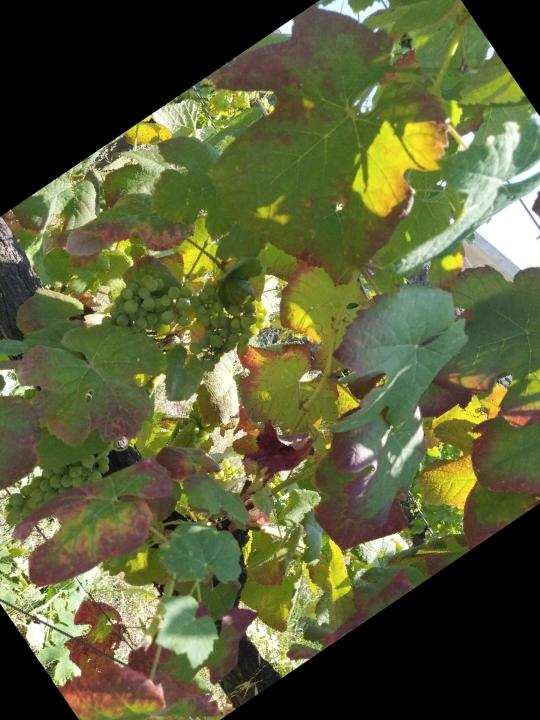grape: (162, 262, 284, 381), (0, 430, 124, 540), (89, 254, 209, 367)
